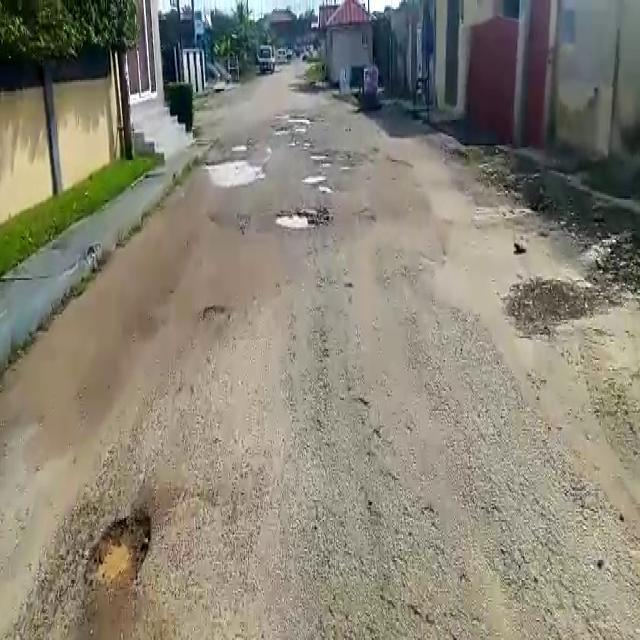pothole: (92, 509, 152, 588), (204, 155, 263, 186), (273, 206, 320, 229), (303, 172, 328, 188)
